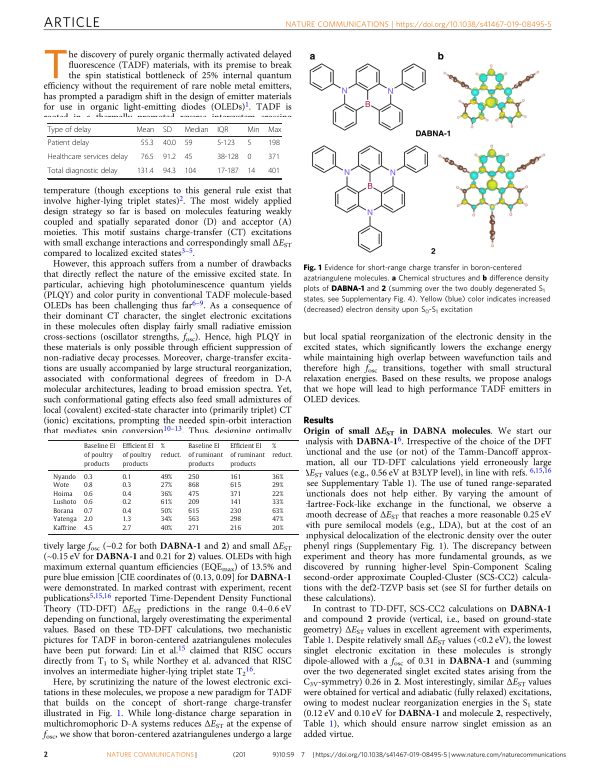borderless: (47, 438, 299, 534), (46, 122, 281, 178)
cell: (187, 443, 224, 468), (229, 443, 266, 468), (83, 443, 116, 468), (122, 443, 155, 468), (47, 153, 129, 163), (47, 167, 119, 177), (47, 139, 90, 149), (47, 126, 92, 135), (271, 443, 294, 459), (160, 443, 182, 459), (216, 153, 240, 163), (216, 167, 240, 177), (52, 524, 78, 533), (184, 126, 209, 135), (52, 498, 77, 507), (52, 516, 78, 524), (216, 139, 236, 149), (52, 473, 77, 481), (136, 167, 155, 177), (52, 507, 75, 515), (135, 126, 155, 135), (52, 490, 74, 498), (52, 481, 70, 490), (140, 139, 155, 149), (162, 139, 177, 149), (140, 153, 155, 163), (162, 153, 177, 163), (162, 167, 177, 177), (267, 139, 281, 149), (267, 153, 281, 163), (267, 167, 281, 177), (267, 126, 282, 135), (184, 167, 197, 177), (246, 126, 260, 135), (216, 126, 229, 135), (160, 481, 173, 490), (187, 481, 200, 490), (229, 481, 242, 490), (271, 481, 284, 490), (160, 498, 173, 507), (187, 498, 200, 507), (229, 498, 242, 507), (271, 498, 284, 507), (160, 524, 173, 533), (187, 524, 200, 533), (229, 524, 242, 533), (271, 524, 284, 533), (160, 473, 173, 481), (187, 473, 200, 481), (229, 473, 242, 481), (271, 473, 284, 481), (160, 490, 173, 498), (187, 490, 200, 498), (229, 490, 242, 498), (271, 490, 284, 498), (160, 507, 173, 515), (187, 507, 200, 515), (229, 507, 242, 515), (271, 507, 284, 515), (160, 516, 173, 524), (187, 516, 200, 524), (229, 516, 242, 524), (271, 516, 284, 524), (246, 167, 256, 177), (162, 126, 173, 135), (83, 481, 94, 490), (83, 498, 94, 507), (83, 524, 94, 533), (184, 139, 193, 149), (184, 153, 193, 163), (122, 481, 132, 490), (122, 498, 132, 507), (122, 524, 132, 533), (83, 473, 94, 481), (83, 490, 94, 498), (83, 507, 94, 515), (83, 516, 94, 524), (122, 473, 132, 481), (122, 490, 132, 498), (122, 507, 132, 515), (122, 516, 132, 524), (246, 139, 252, 149), (246, 153, 252, 163)
